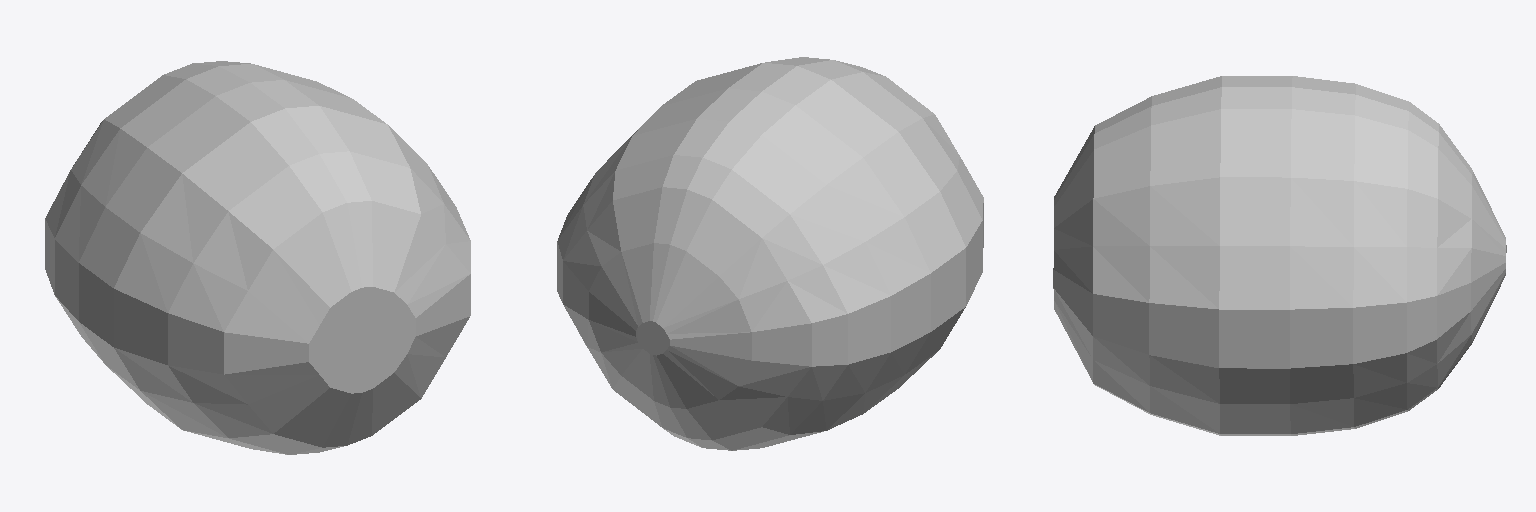
Rendered from kiwi_out.obj.
The picture shows the model from 3 angles: view 1: azimuth 30°, elevation 25°; view 2: azimuth 150°, elevation 25°; view 3: azimuth 270°, elevation 25°; orthographic projection.
Visible parts, largest first — view 1: Cube; view 2: Cube; view 3: Cube.
Part boxes in pixels (bbox=[...]): Cube: bbox=[45, 61, 470, 454]; Cube: bbox=[557, 57, 983, 450]; Cube: bbox=[1053, 76, 1506, 435].
Size of the model in its own units: 2.43 by 2.3 by 2.8.